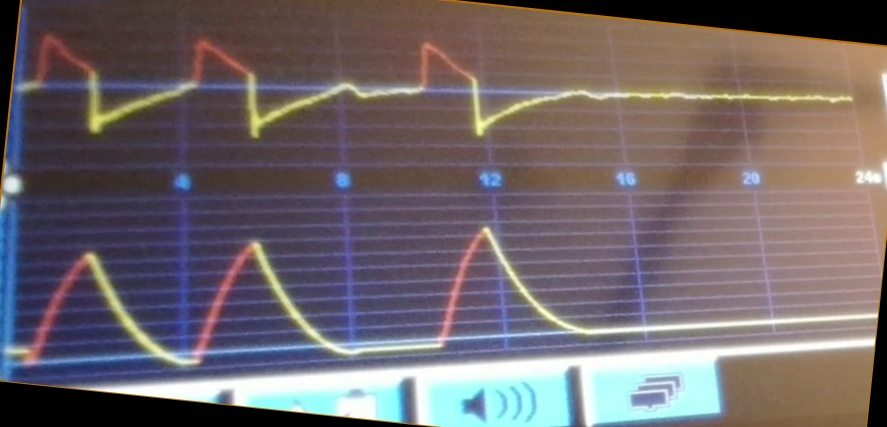Ineffective_effort Flow: (24, 27, 850, 148)
Ineffective_effort Volume: (14, 221, 869, 367)
